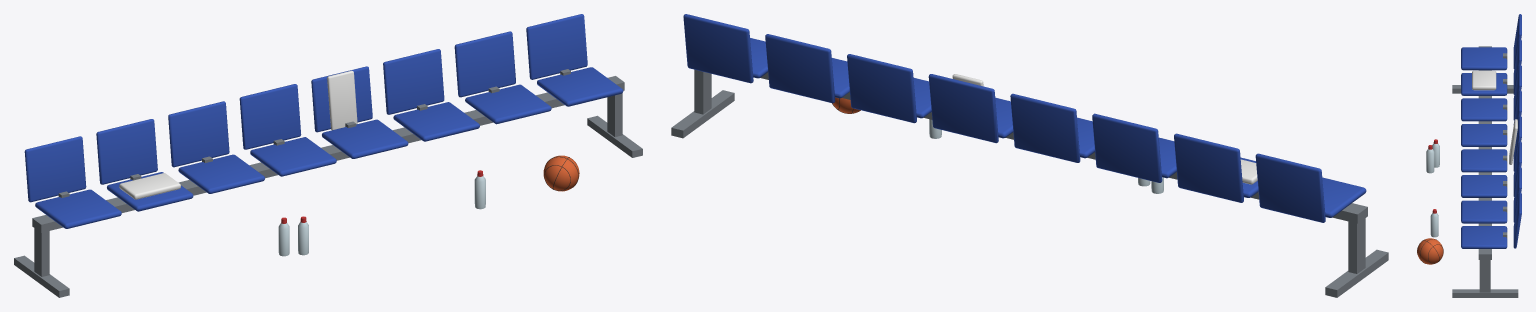
The model's file is vinish-team-bench.glb.
The picture shows the model from 3 angles, left to right: view 1: azimuth 30°, elevation 25°; view 2: azimuth 150°, elevation 25°; view 3: azimuth 270°, elevation 25°; orthographic projection. The views are drawn at different scales.
Parts seen in each view (by area): view 1: Team_Bench; view 2: Team_Bench; view 3: Team_Bench.
Boxes of the visible parts, x1,y1,x2,y2 form: Team_Bench: [14, 14, 642, 297]; Team_Bench: [671, 14, 1388, 297]; Team_Bench: [1417, 14, 1521, 297].
Size of the model in its own units: 4.48 by 0.8291 by 0.9554.
